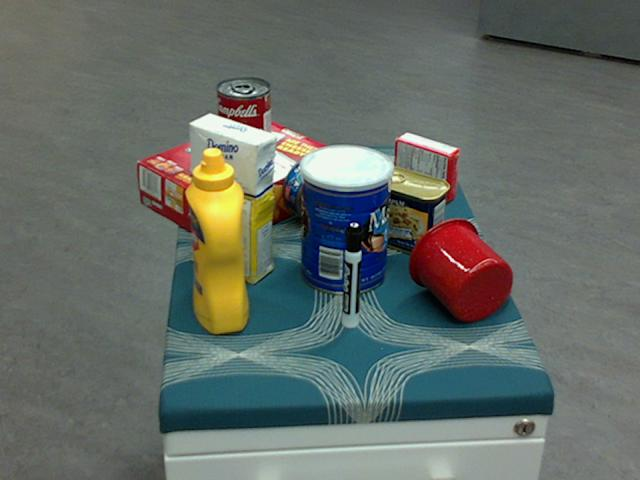cracker_box: (136, 115, 340, 250)
gelatin_box: (394, 132, 460, 203)
large_marker: (342, 223, 361, 329)
master_chef_can: (299, 144, 393, 295)
mug: (408, 217, 513, 321)
mustard_bottle: (185, 148, 248, 334)
potted_meat_can: (363, 165, 449, 254)
sugar_box: (189, 114, 275, 285)
tomato_soup_can: (215, 77, 271, 172)
tuna_fish_can: (281, 152, 349, 222)
